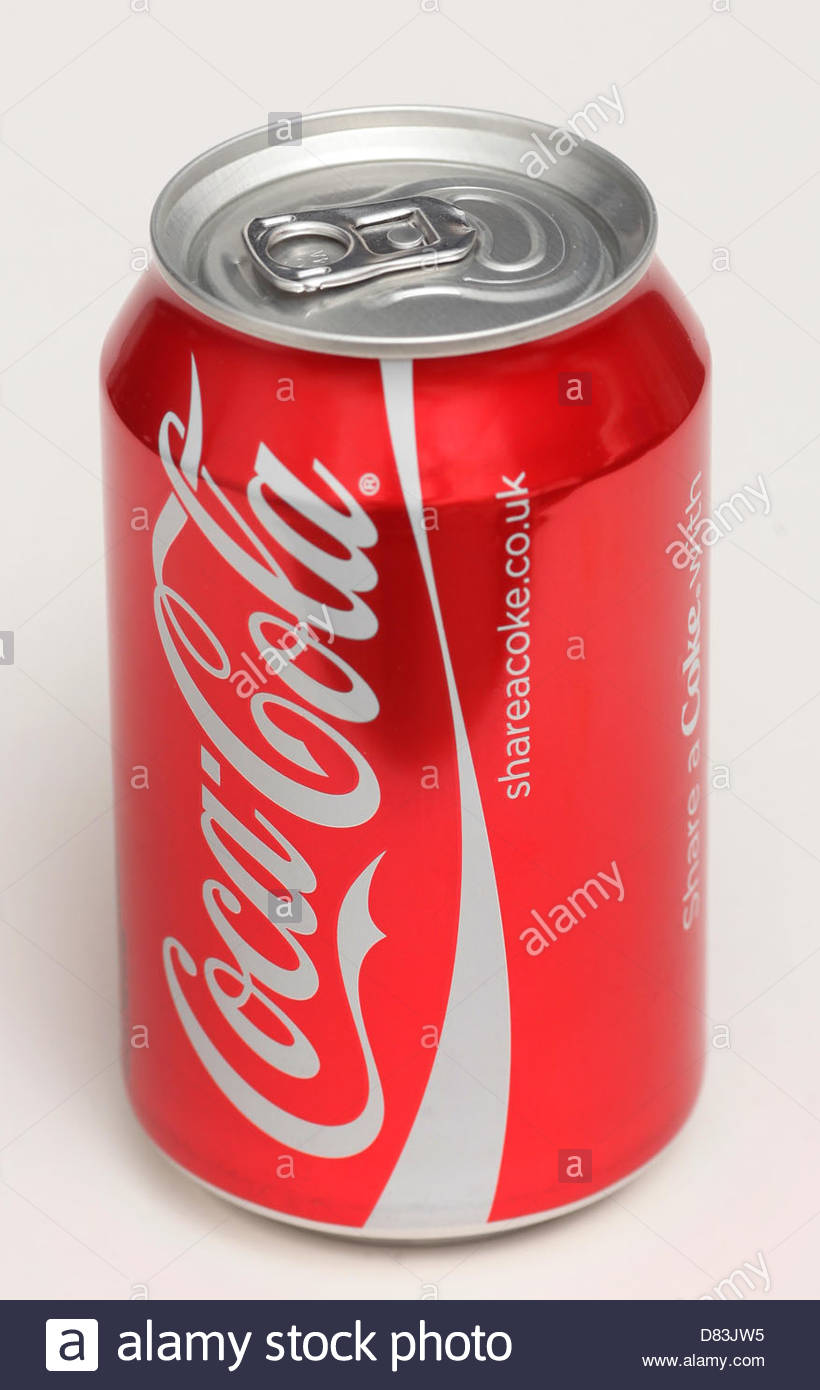can: (87, 100, 735, 1253)
